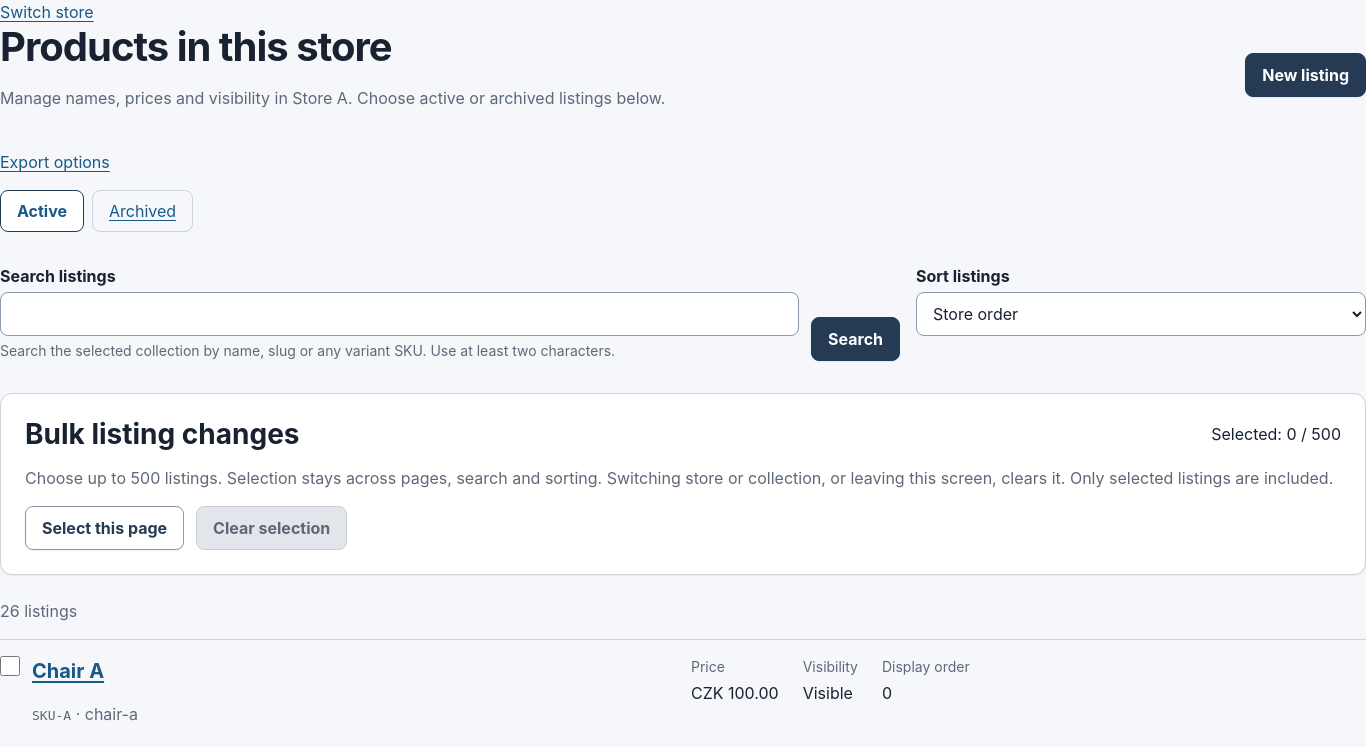
Test: clears selection and drafts on collection/store departure: ?archived=true
Click the button "Select this page" at (105, 528), box [25, 506, 184, 550]
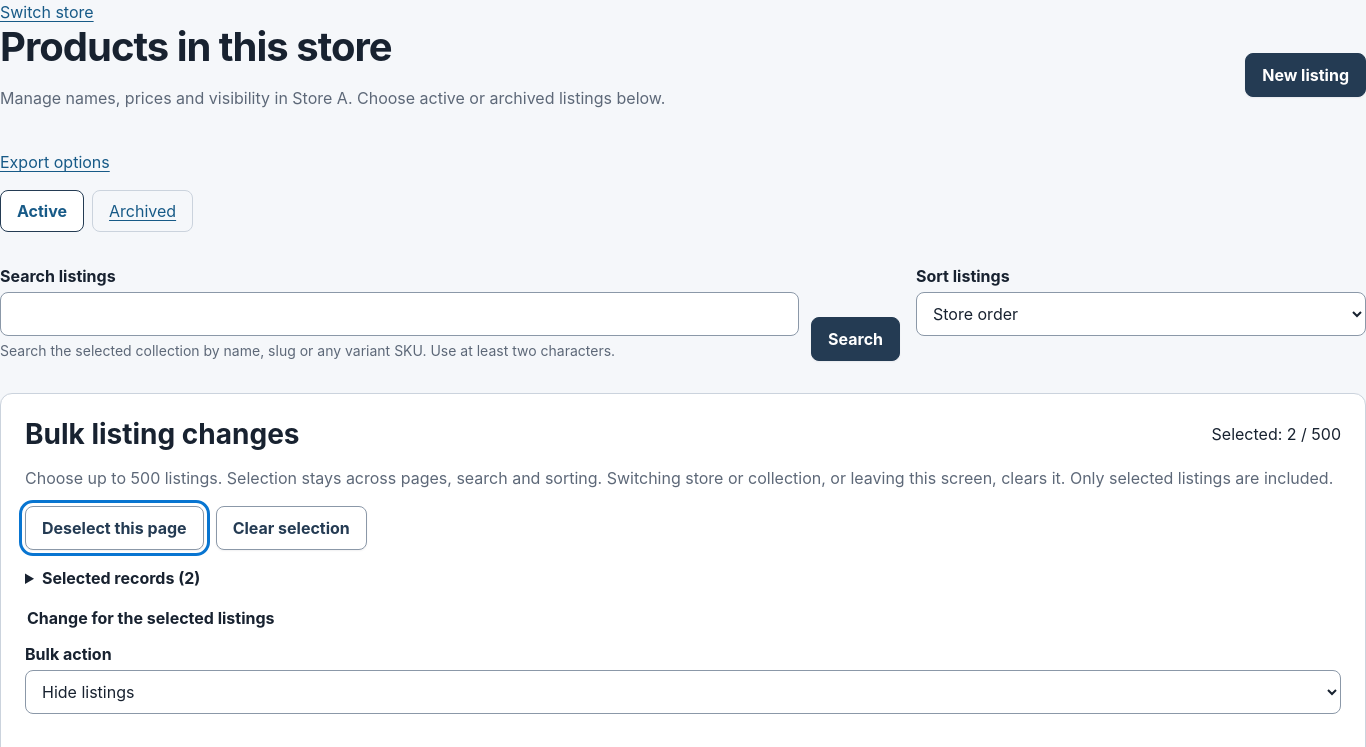
Select "Set one price" in the dropdown labelled "Bulk action" at (683, 692), box [25, 670, 1341, 714]
(page scrolled)
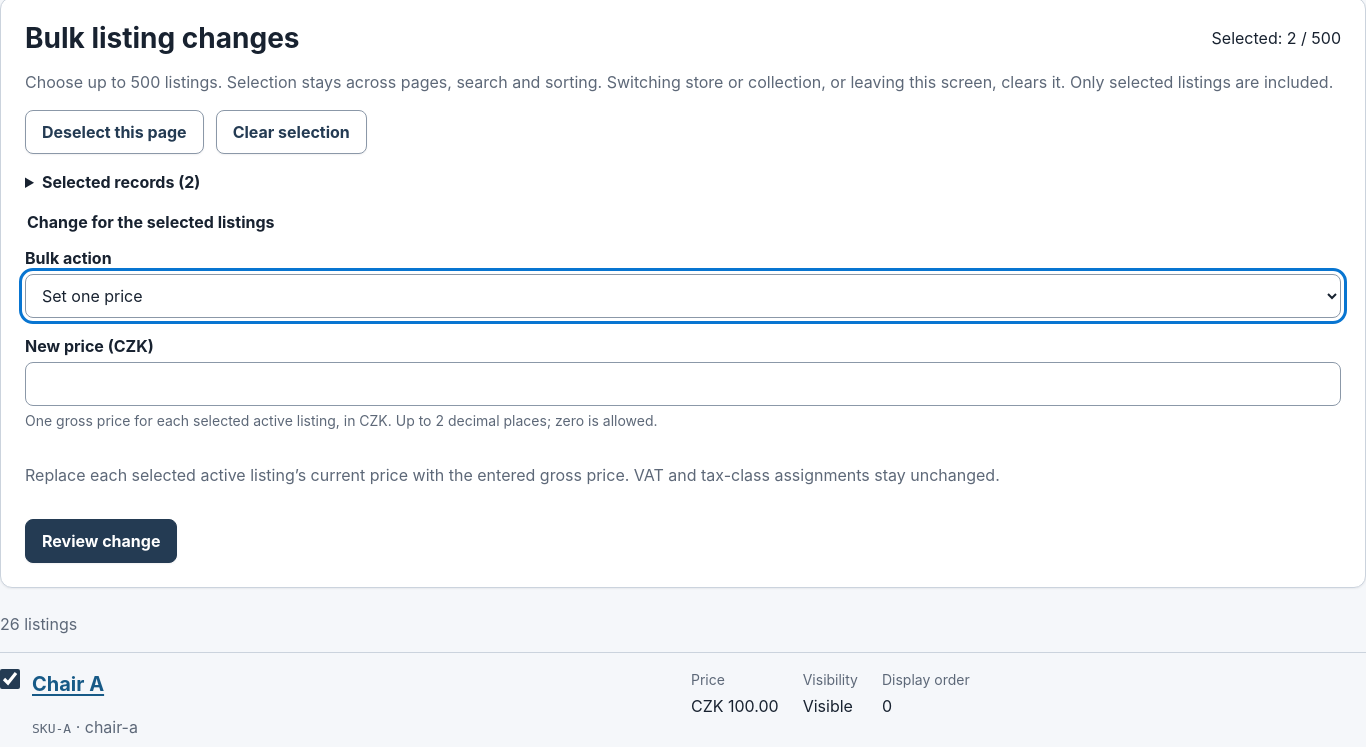
Type "99,50" into the field labelled "New price (CZK)" at (683, 384), box [25, 362, 1341, 406]
(page scrolled)
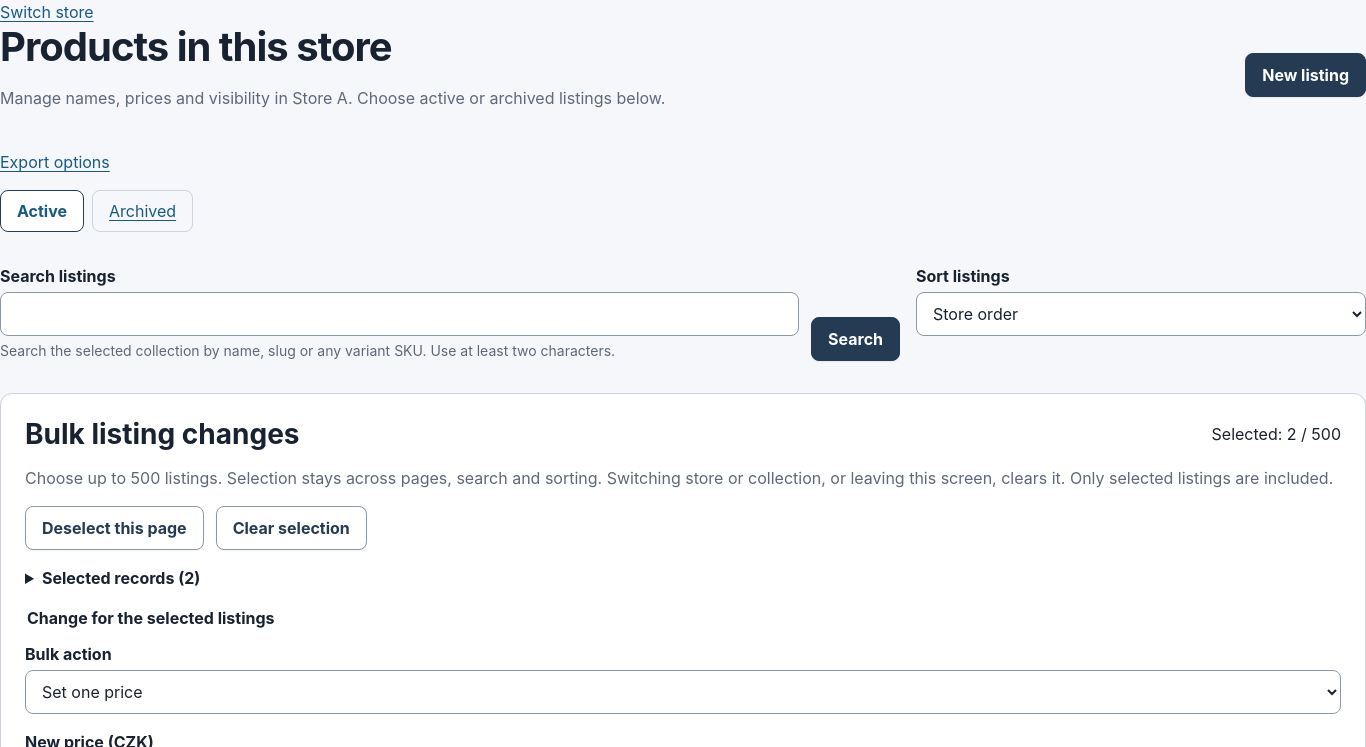
Click the link "Archived" at (143, 211), box [92, 190, 193, 232]
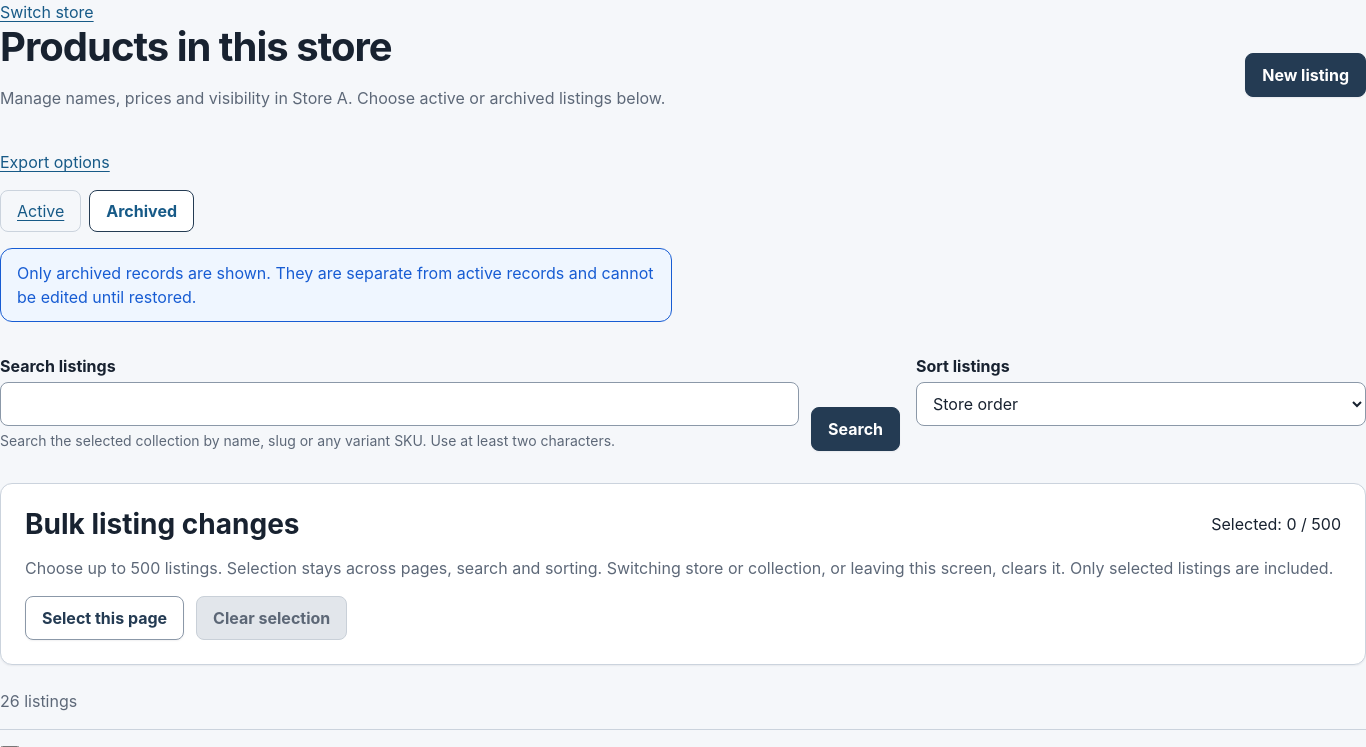
Expected: the button "Select this page" is shown, [25, 596, 184, 640]
Expected: the text "Selected: 0 / 500" is shown, [1211, 512, 1341, 536]
